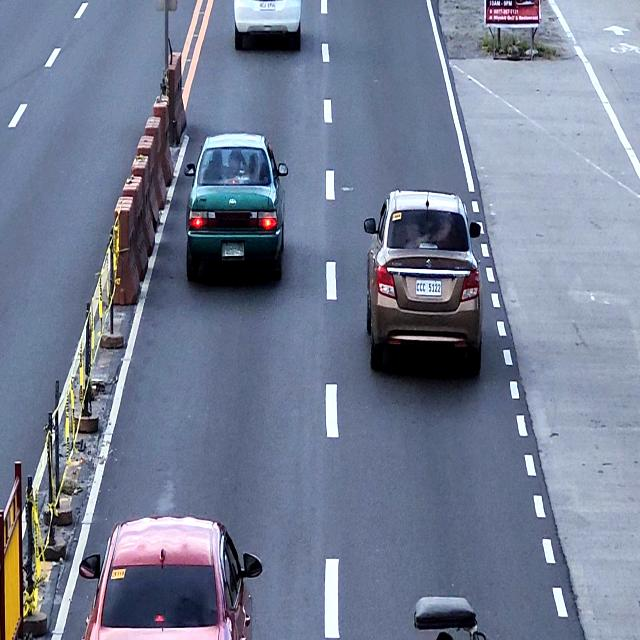Car: (79, 514, 262, 640), (363, 188, 482, 378), (182, 134, 289, 286), (232, 0, 303, 51)
License-Plate: (416, 279, 442, 297), (221, 242, 245, 257), (258, 0, 276, 10)
